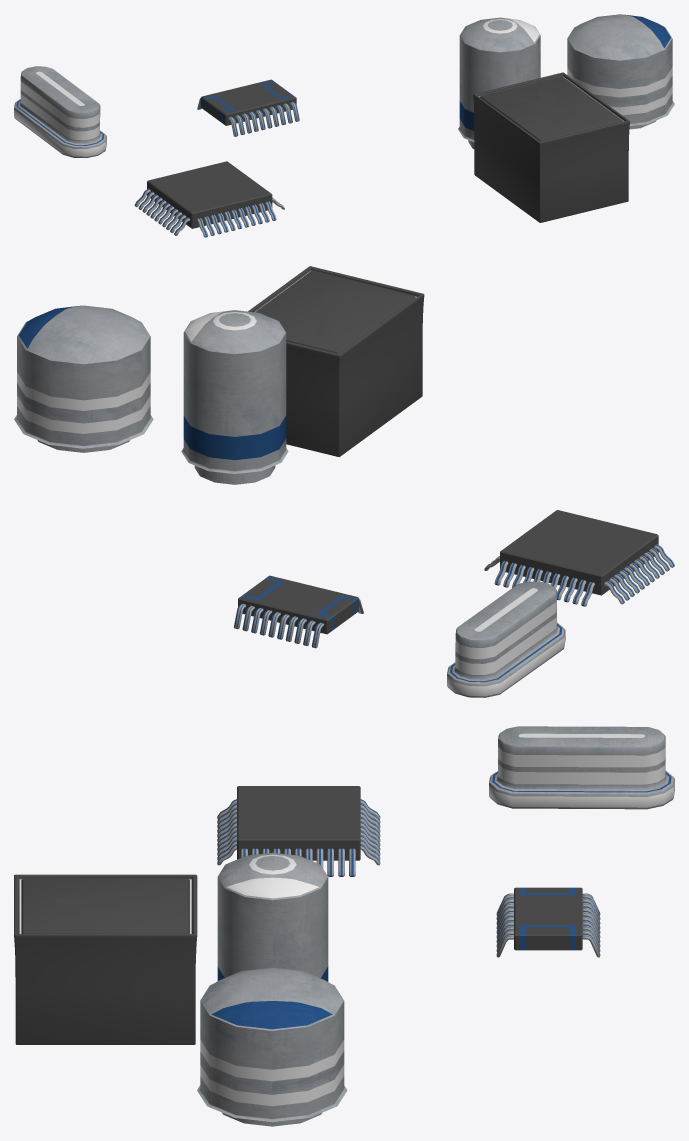
The model's file is GlowingProps.fbx.
3 views of the same model, one above another, from view 1: azimuth 30°, elevation 25°; view 2: azimuth 150°, elevation 25°; view 3: azimuth 270°, elevation 25° (orthographic). The views are drawn at different scales.
Parts seen in each view (by area): view 1: GPUVRM, GPUCapacitorBig, GPUCapacitor, CylinderThingNew, LogicBoxSquare.003, LogicBoxSquare.001, ElectroLeg.005, ElectroLeg.006, ElectroLeg.003; view 2: GPUVRM, GPUCapacitorBig, GPUCapacitor, CylinderThingNew, LogicBoxSquare.003, LogicBoxSquare.001, ElectroLeg.006, ElectroLeg.003, ElectroLeg.005; view 3: GPUVRM, GPUCapacitorBig, CylinderThingNew, GPUCapacitor, LogicBoxSquare.003, LogicBoxSquare.001, ElectroLeg.005, ElectroLeg.003, ElectroLeg.006.
Part boxes in pixels (x1,y1,x2,y2): GPUVRM: [473, 72, 629, 222]; GPUCapacitorBig: [567, 14, 674, 129]; GPUCapacitor: [458, 17, 540, 148]; CylinderThingNew: [14, 66, 106, 157]; LogicBoxSquare.003: [147, 161, 272, 228]; LogicBoxSquare.001: [201, 79, 296, 125]; ElectroLeg.005: [197, 201, 276, 237]; ElectroLeg.006: [134, 188, 284, 235]; ElectroLeg.003: [197, 98, 299, 136]; GPUVRM: [248, 266, 424, 457]; GPUCapacitorBig: [14, 305, 153, 452]; GPUCapacitor: [181, 310, 288, 484]; CylinderThingNew: [447, 581, 565, 697]; LogicBoxSquare.003: [500, 510, 658, 595]; LogicBoxSquare.001: [238, 575, 358, 634]; ElectroLeg.006: [484, 544, 674, 604]; ElectroLeg.003: [234, 598, 363, 648]; ElectroLeg.005: [494, 551, 658, 606]; GPUVRM: [14, 874, 197, 1044]; GPUCapacitorBig: [197, 967, 347, 1126]; CylinderThingNew: [489, 726, 674, 809]; GPUCapacitor: [217, 852, 328, 981]; LogicBoxSquare.003: [237, 786, 360, 860]; LogicBoxSquare.001: [514, 887, 582, 950]; ElectroLeg.005: [217, 799, 380, 865]; ElectroLeg.003: [496, 893, 600, 957]; ElectroLeg.006: [241, 848, 355, 876].
Size of the model in its own units: 60.99 by 14.36 by 49.45.
